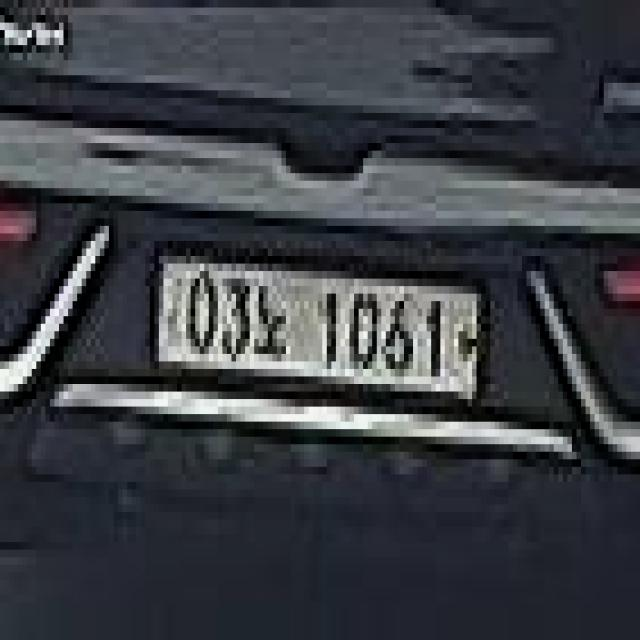illegal_plate: (151, 245, 486, 416)
